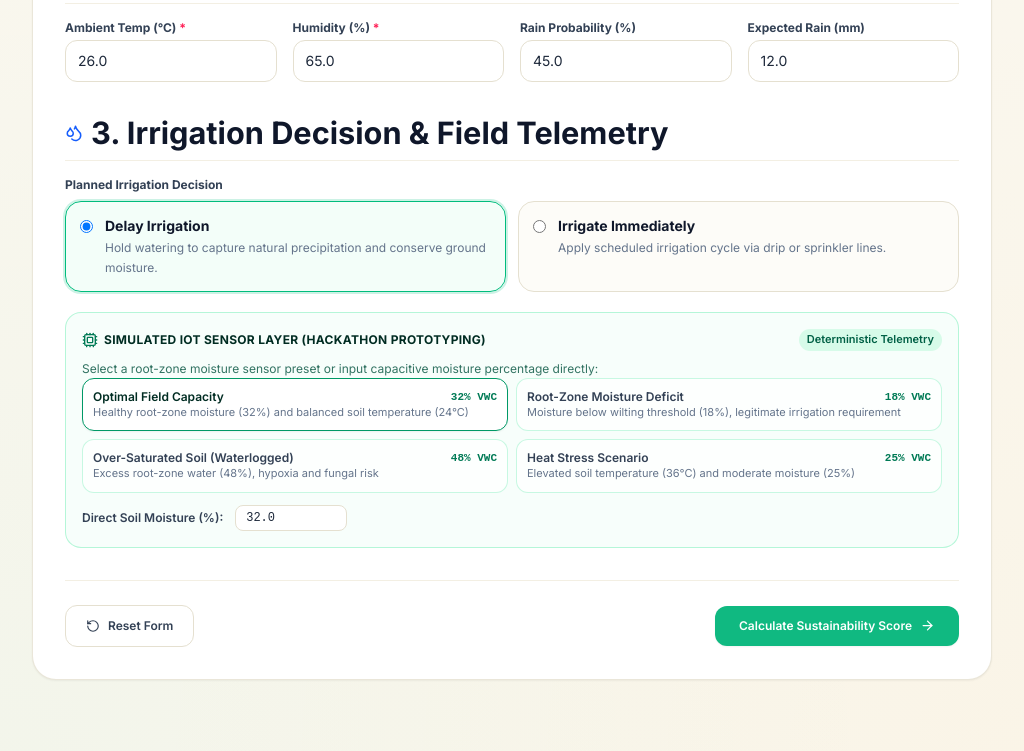
Scenario: Sustainability Score Feature & Workflows › submits form successfully and displays loading state and result UI
The image size is (1024, 751).
(page scrolled)
What coordinates should you click on to do the following:
click the button "Calculate Sustainability Score"
I would click on:
 (837, 626)
Its box is [715,606,959,646].
(page scrolled)
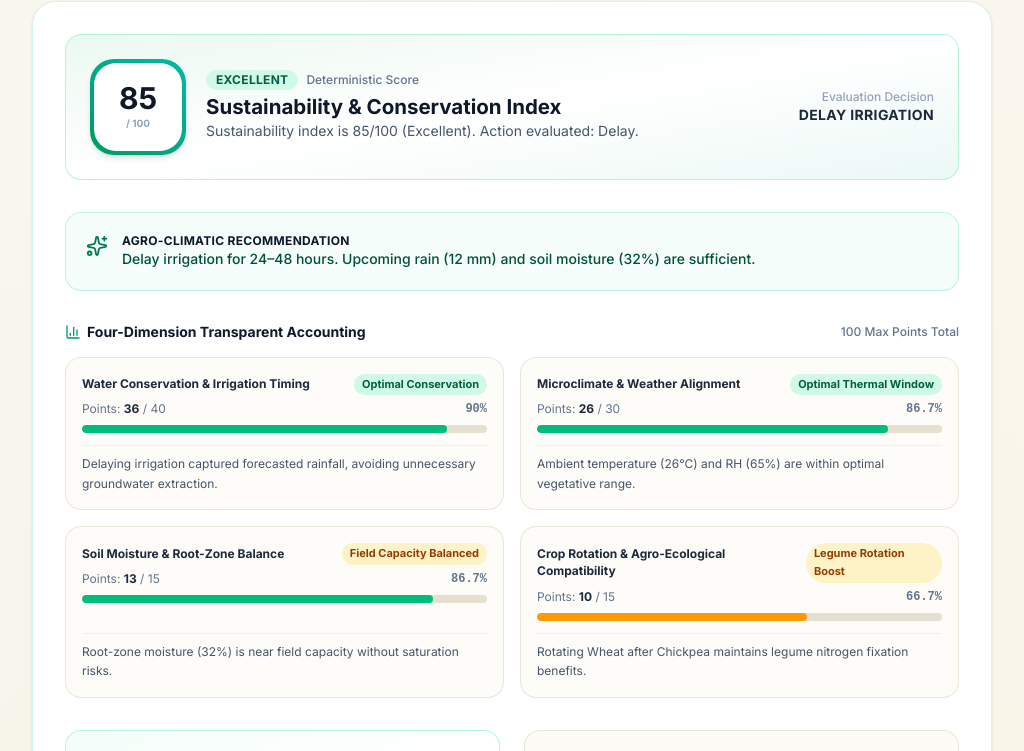
Result: the text "85" is shown at [119,82,157,112]
Result: the text "Sustainability index is 85/100" is shown at [206,122,639,139]
Result: the text "Delay irrigation for 24–48 hours" is shown at [122,250,756,266]
